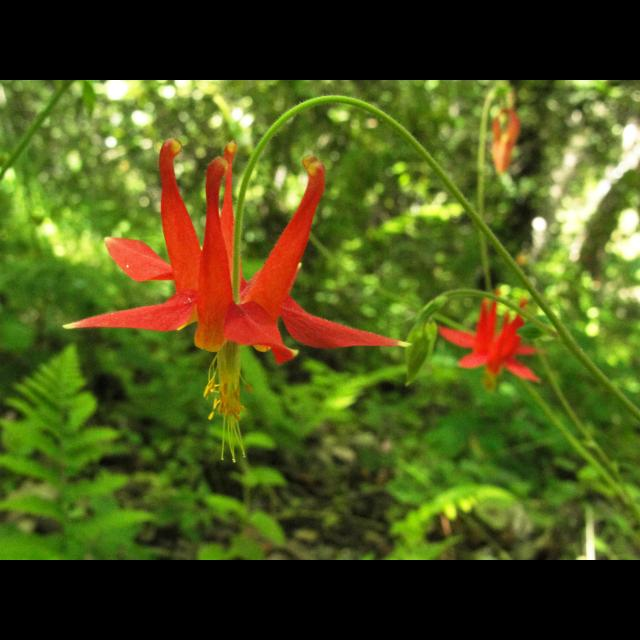Flower: (62, 140, 410, 462), (436, 290, 536, 388)
